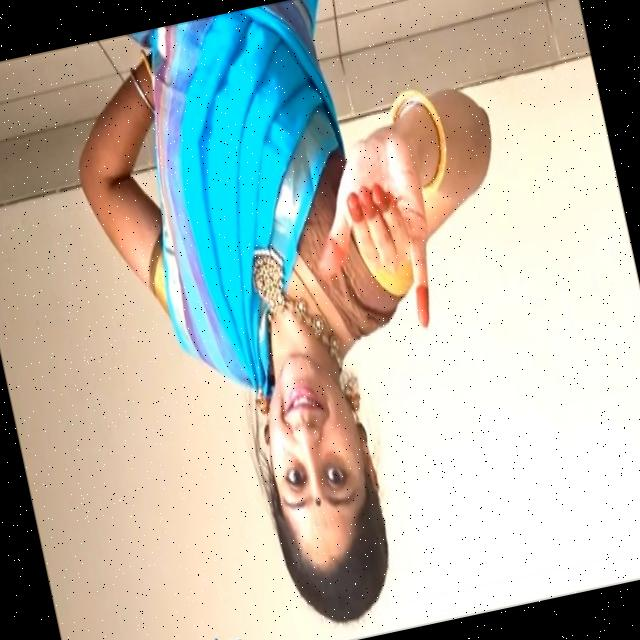Mrigashirsha: (286, 101, 464, 363)
lady: (230, 354, 412, 629)
text: (96, 622, 253, 640)
